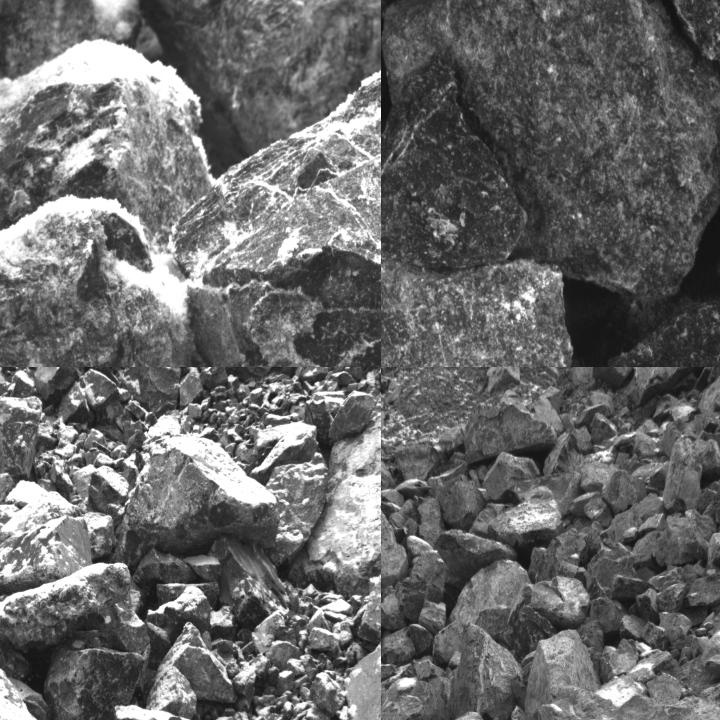stone: (382, 0, 719, 303), (167, 27, 380, 366), (0, 38, 210, 281), (381, 188, 657, 366), (95, 0, 380, 157), (0, 196, 209, 366), (381, 58, 528, 269), (116, 435, 277, 562), (434, 564, 554, 669), (0, 559, 132, 650), (448, 623, 526, 719), (0, 514, 90, 593), (209, 535, 288, 625), (48, 647, 145, 719), (524, 630, 602, 716), (661, 0, 719, 115), (464, 397, 558, 466), (269, 457, 329, 562), (436, 530, 522, 602), (164, 626, 238, 703), (542, 673, 655, 719), (146, 588, 211, 666), (506, 576, 591, 628), (488, 497, 565, 548), (654, 507, 716, 568), (344, 614, 380, 719), (397, 550, 446, 625), (0, 395, 42, 479), (60, 371, 122, 426), (526, 529, 589, 582), (625, 367, 710, 406), (132, 548, 198, 596), (514, 472, 582, 517), (381, 490, 410, 594), (121, 367, 180, 418), (663, 437, 703, 512), (381, 680, 455, 719), (484, 452, 540, 503), (434, 477, 486, 531), (147, 666, 199, 717), (328, 391, 376, 440), (87, 464, 128, 510), (392, 446, 442, 482), (84, 511, 119, 560), (29, 367, 79, 401), (310, 672, 346, 718), (417, 496, 444, 547), (611, 574, 659, 601), (363, 566, 380, 641), (116, 706, 207, 719), (688, 573, 719, 611), (182, 555, 224, 582), (179, 369, 204, 407), (593, 367, 634, 388), (419, 600, 445, 633), (656, 583, 684, 612), (0, 503, 15, 557), (410, 624, 433, 658), (618, 613, 648, 639), (307, 628, 340, 650), (198, 367, 230, 389), (301, 367, 336, 382), (708, 531, 719, 566)
